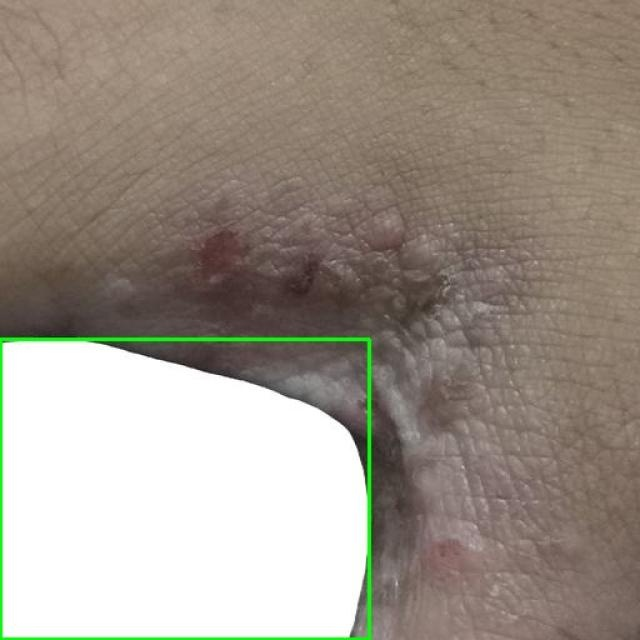Scabies: (0, 339, 369, 639)
